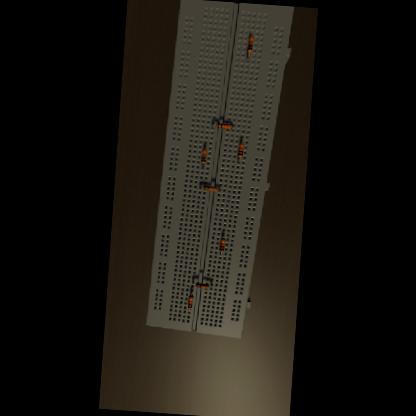breadboard: (145, 0, 294, 340)
resistor: (247, 35, 254, 52), (216, 121, 230, 128), (200, 148, 206, 162), (203, 184, 217, 190), (238, 142, 244, 156), (195, 282, 208, 288), (220, 238, 226, 250), (188, 294, 193, 308)
wire: (246, 52, 249, 60), (192, 280, 196, 284), (190, 288, 192, 294), (238, 156, 240, 161), (202, 162, 204, 166), (212, 124, 216, 126), (222, 233, 224, 237), (230, 126, 232, 129), (220, 251, 222, 253), (200, 186, 203, 187), (209, 283, 210, 286), (205, 146, 206, 148), (242, 139, 243, 141), (218, 188, 219, 189)
